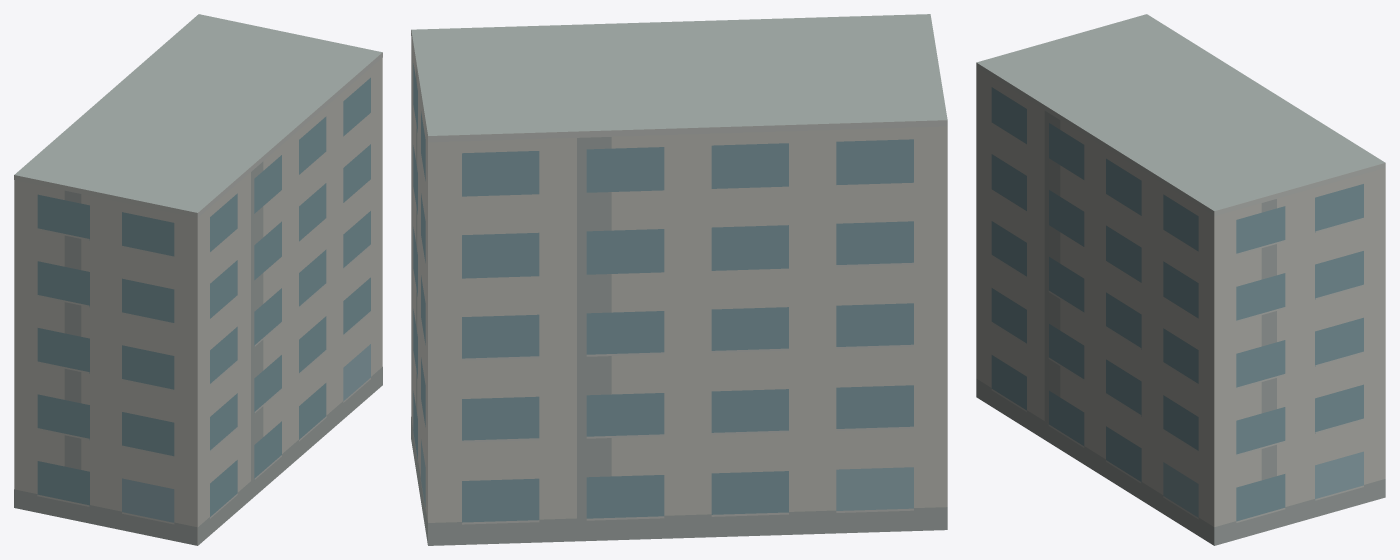
File: survey-upis-32768790.glb
The picture shows the model from 3 angles, left to right: view 1: azimuth 30°, elevation 25°; view 2: azimuth 150°, elevation 25°; view 3: azimuth 270°, elevation 25°; orthographic projection. The views are drawn at different scales.
Visible parts, largest first — view 1: survey-upis-32768790.tmp; view 2: survey-upis-32768790.tmp; view 3: survey-upis-32768790.tmp.
Part boxes in pixels (box(x1,y1,x2,y2)): survey-upis-32768790.tmp: box(14, 14, 382, 545); survey-upis-32768790.tmp: box(411, 14, 947, 545); survey-upis-32768790.tmp: box(976, 14, 1385, 545).
Bounding box in the file's own units: 19.79 × 15.65 × 17.36.
